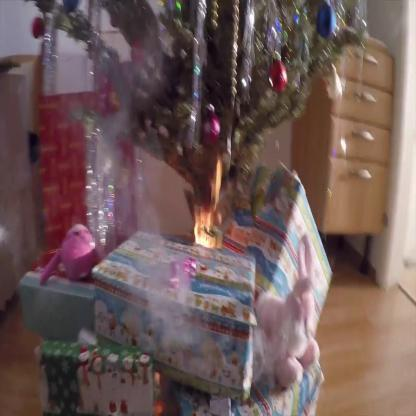fire: (185, 169, 231, 252)
